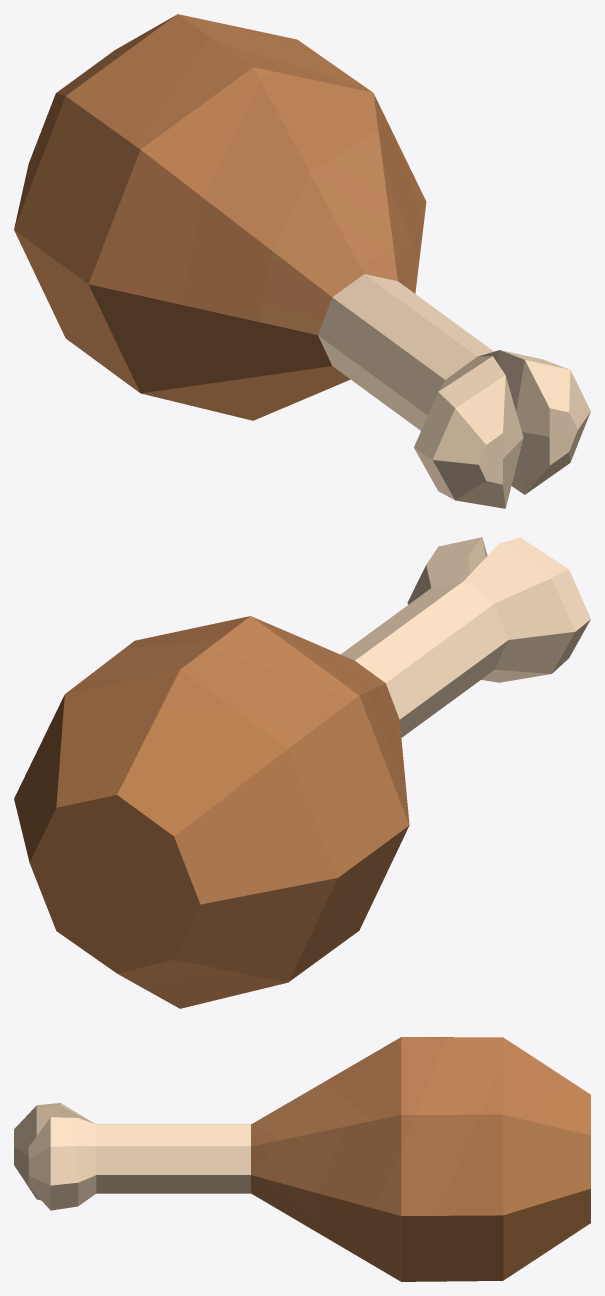
File: CHAHIN_DRUMSTICK_CHICKEN.gltf
The picture shows the model from 3 angles, top to bottom: view 1: azimuth 30°, elevation 25°; view 2: azimuth 150°, elevation 25°; view 3: azimuth 270°, elevation 25°; orthographic projection. The views are drawn at different scales.
Parts seen in each view (by area): view 1: Cube.015_Cube.019; view 2: Cube.015_Cube.019; view 3: Cube.015_Cube.019.
Part boxes in pixels (x1,y1,x2,y2): Cube.015_Cube.019: (14,14,590,508); Cube.015_Cube.019: (14,537,590,1008); Cube.015_Cube.019: (14,1037,590,1281).
Bounding box in the file's own units: 0.7634 × 0.763 × 1.65.
1 material, 1 textured.
